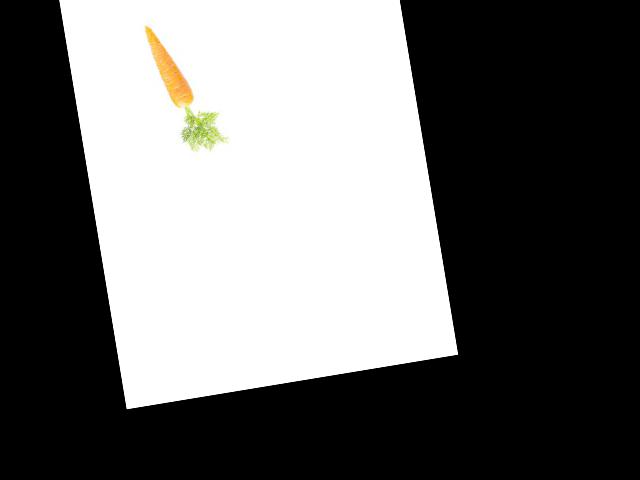carrot: (134, 13, 198, 114)
